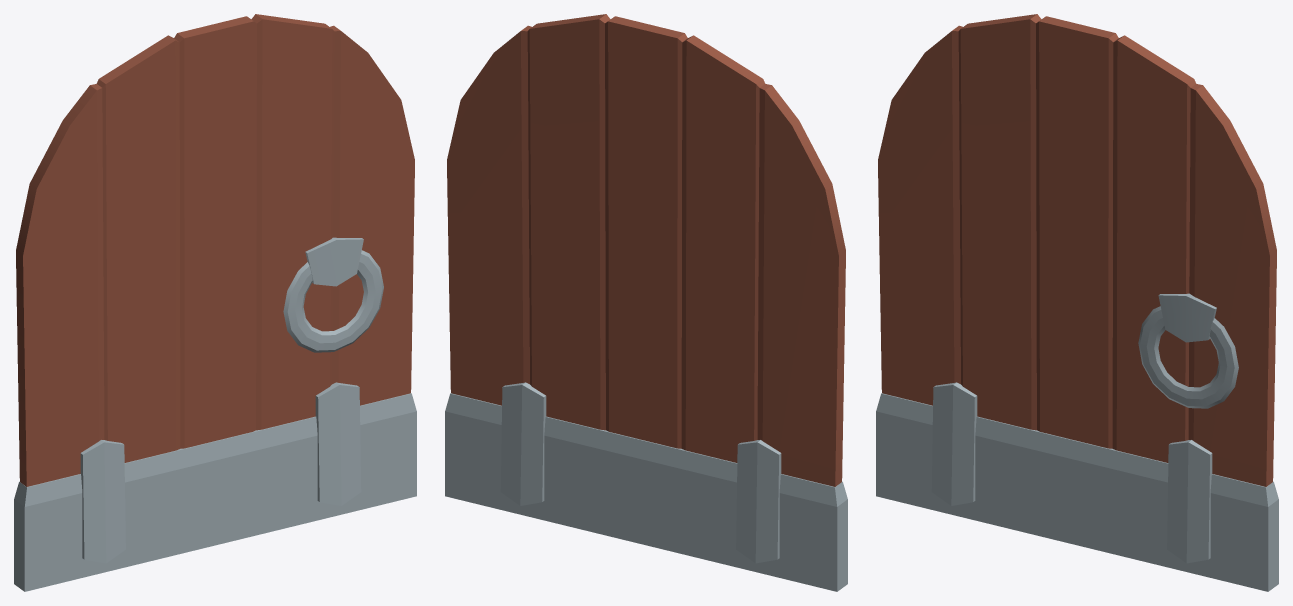
The model's file is door.gltf.
3 views of the same model, side by side, from view 1: azimuth 30°, elevation 25°; view 2: azimuth 150°, elevation 25°; view 3: azimuth 330°, elevation 25° (orthographic).
Parts seen in each view (by area): view 1: door; view 2: door; view 3: door.
Part boxes in pixels (left/top/right/bottom): door: left=14, top=14, right=416, bottom=591; door: left=445, top=14, right=847, bottom=591; door: left=876, top=14, right=1278, bottom=591.
Size of the model in its own units: 6.34 by 7.93 by 0.4738.
